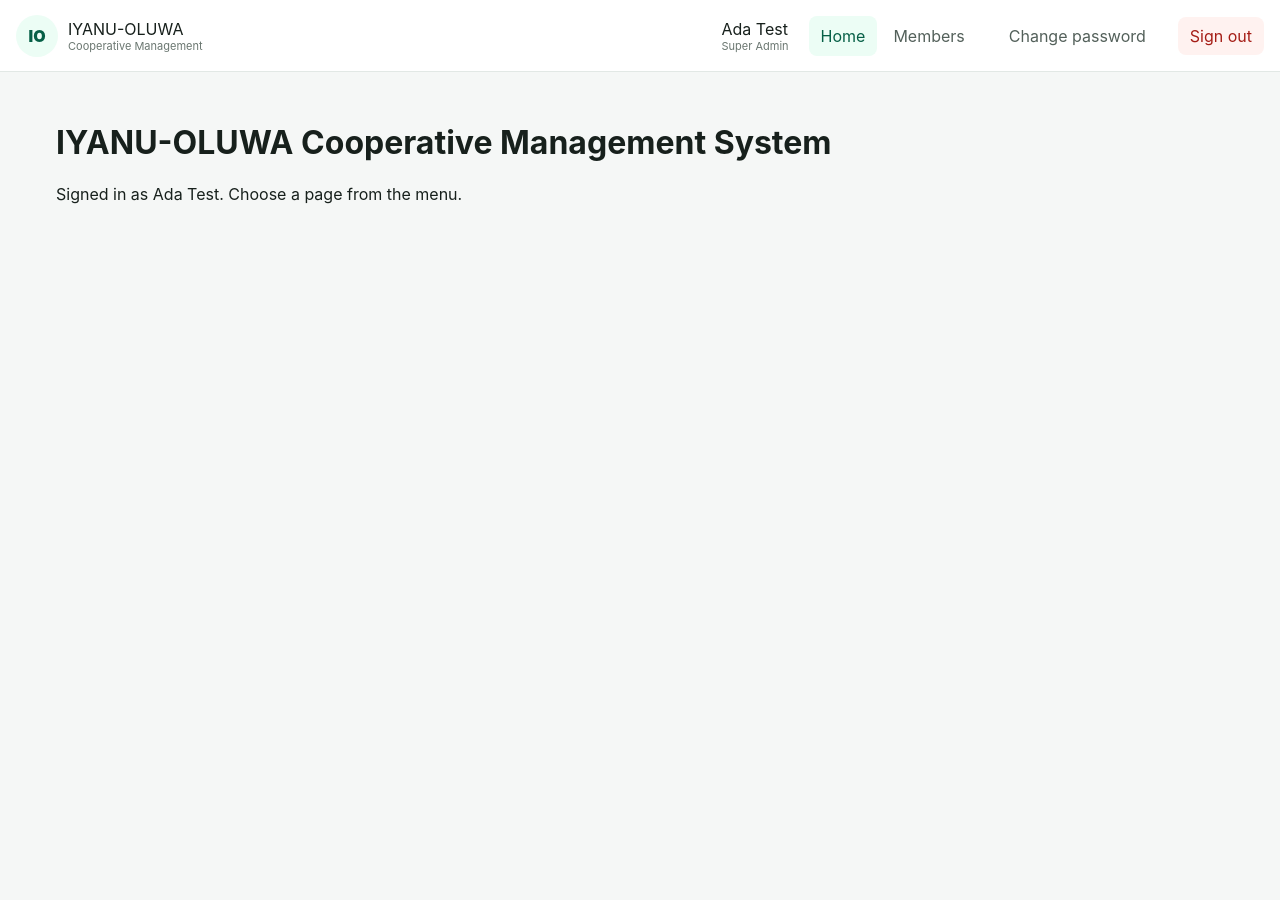
member detail (jsdom) › shows each section's own message when one read fails
Click the button "Members" at [929, 36], box [881,16,977,56]
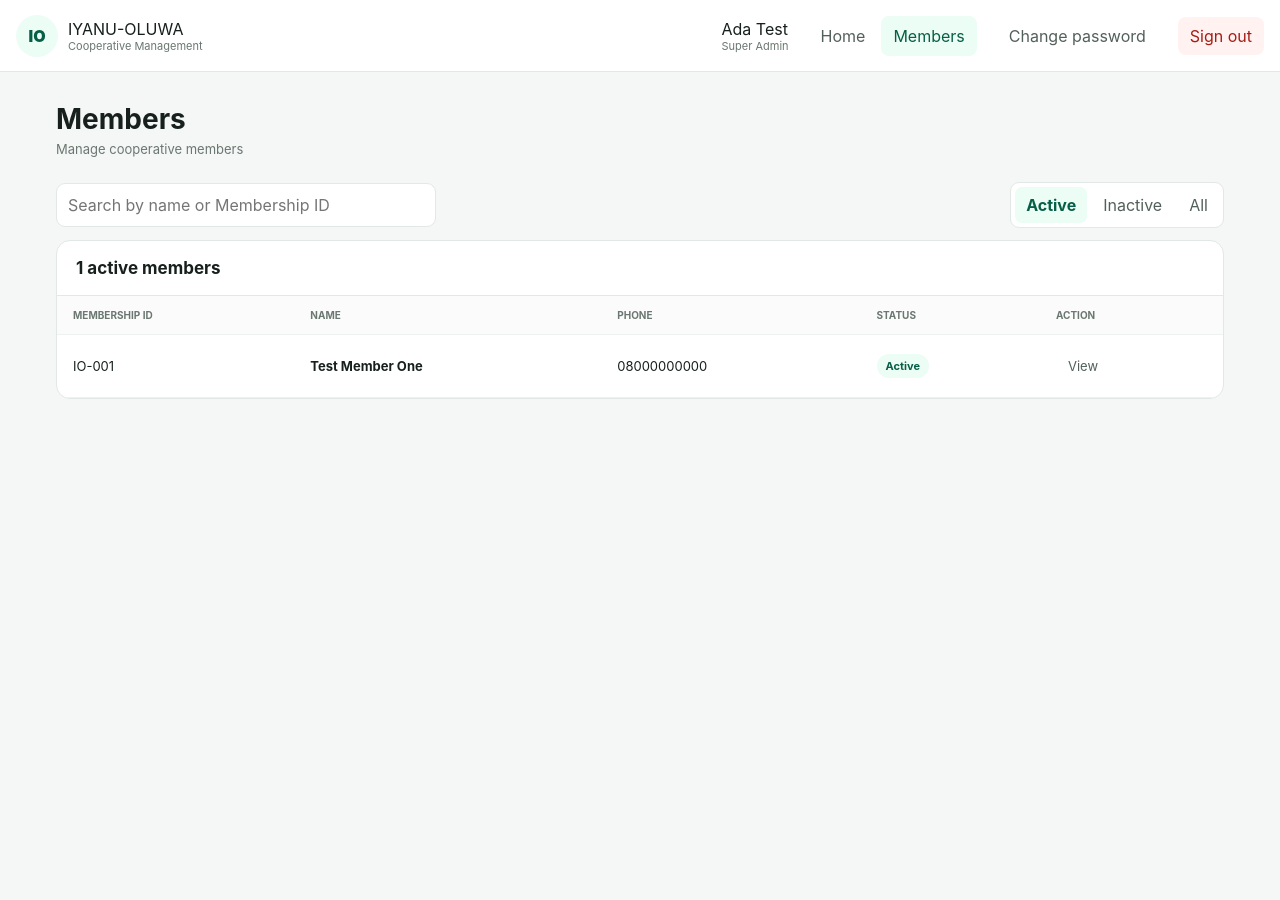
Click the button with aria-label "View Test Member One" at [1083, 366], box [1056,348,1110,384]
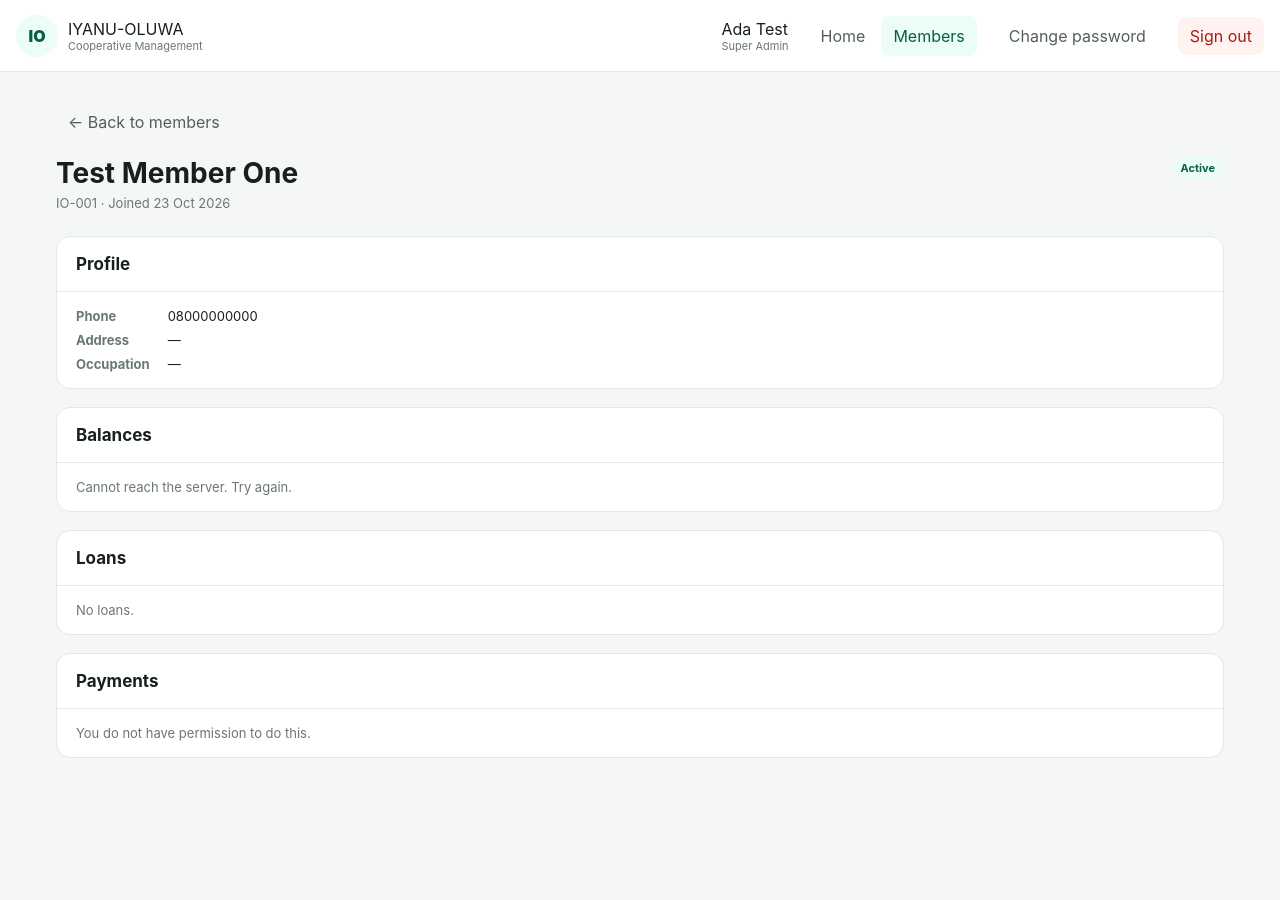
expect the element showing "Balances Cannot reach the server. Try again." is shown: met, box [56,407,1224,512]
expect the element showing "Payments You do not have permission to do this." is shown: met, box [56,653,1224,758]
expect the element showing "Loans No loans." is shown: met, box [56,530,1224,635]
